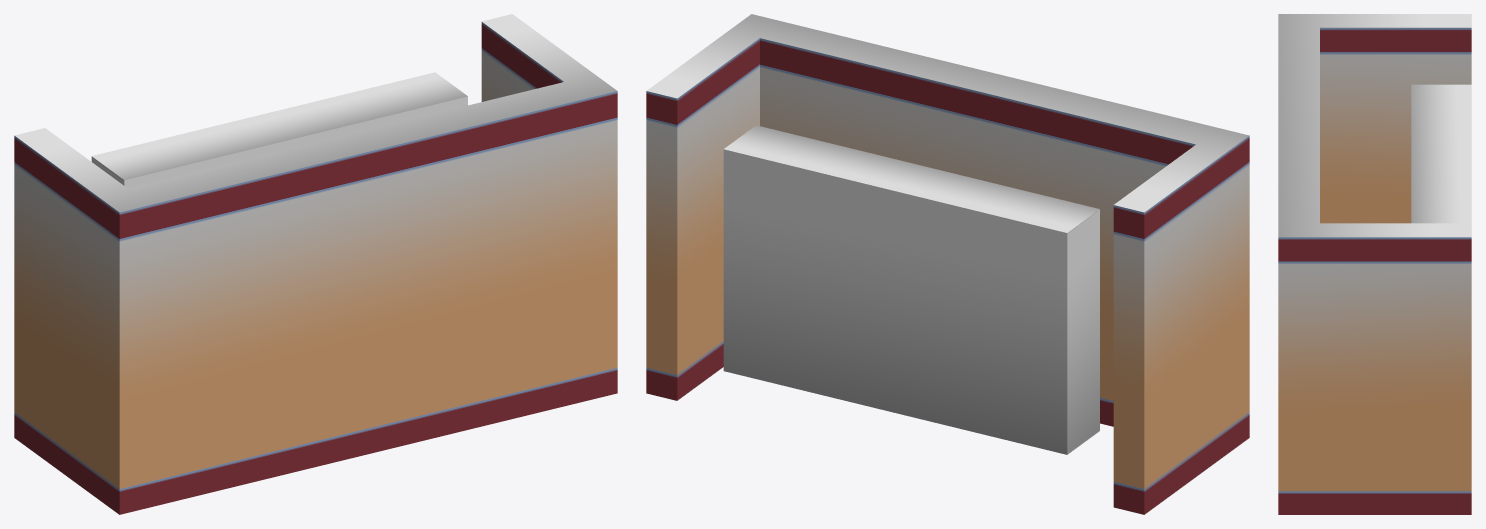
The model's file is Lamp_T.FBX.
The picture shows the model from 3 angles, left to right: view 1: azimuth 30°, elevation 25°; view 2: azimuth 150°, elevation 25°; view 3: azimuth 270°, elevation 25°; orthographic projection. The views are drawn at different scales.
Visible parts, largest first — view 1: Lamp_T; view 2: Lamp_T; view 3: Lamp_T.
Boxes of the visible parts, x1,y1,x2,y2 form: Lamp_T: [14, 14, 617, 514]; Lamp_T: [646, 14, 1249, 514]; Lamp_T: [1278, 14, 1471, 514].
Size of the model in its own units: 16.14 by 9.37 by 5.91.
